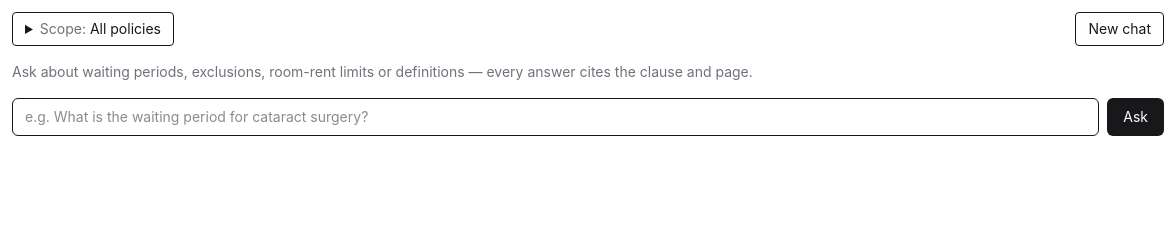
ChatView › marks an answer that ended without its final meta as incomplete
Type "q" into the field at (556, 117), box [12,98,1099,136]
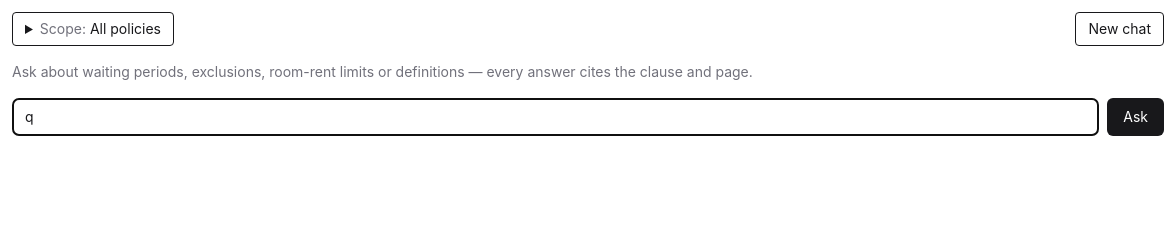
Click the button "Ask" at (1136, 117), box [1107,98,1164,136]
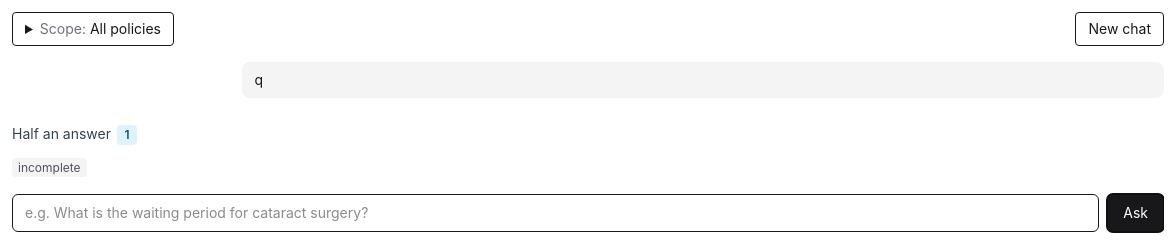
Check: the text "incomplete" is shown, box [12,158,87,177]
